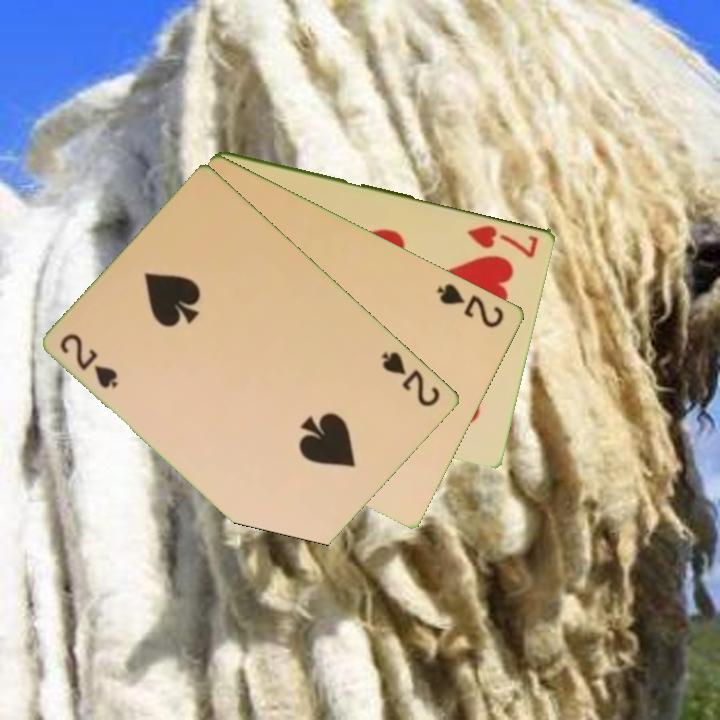2s: (378, 347, 444, 410), (56, 329, 122, 391), (433, 279, 507, 331)
7h: (464, 221, 542, 260)
